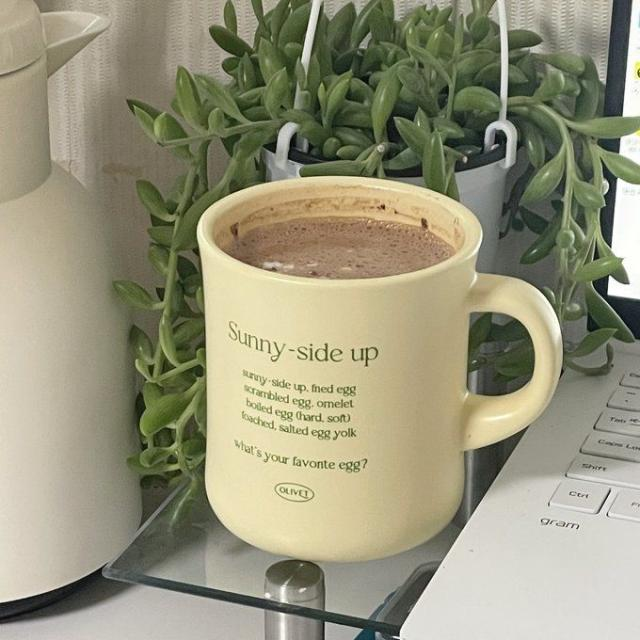glass cup: (198, 175, 562, 564)
